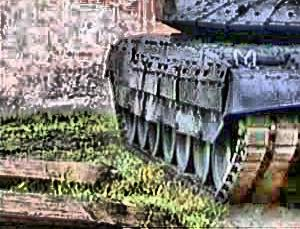tanks: (108, 1, 300, 201)
